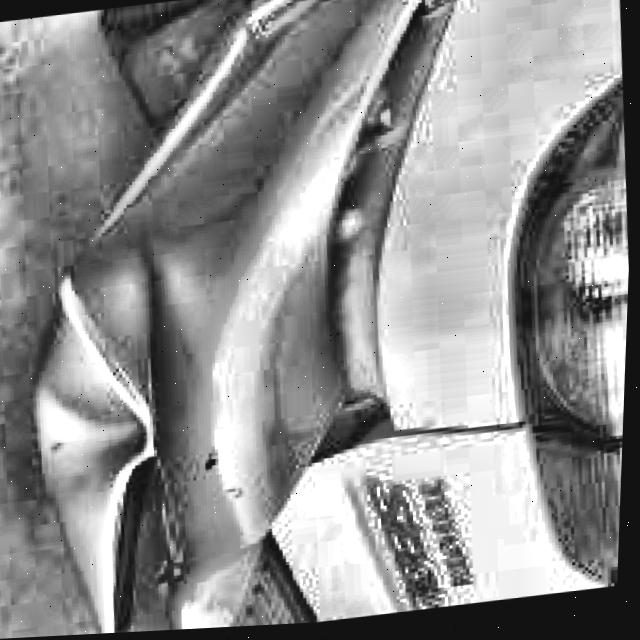bumper_dent: (17, 260, 190, 515)
